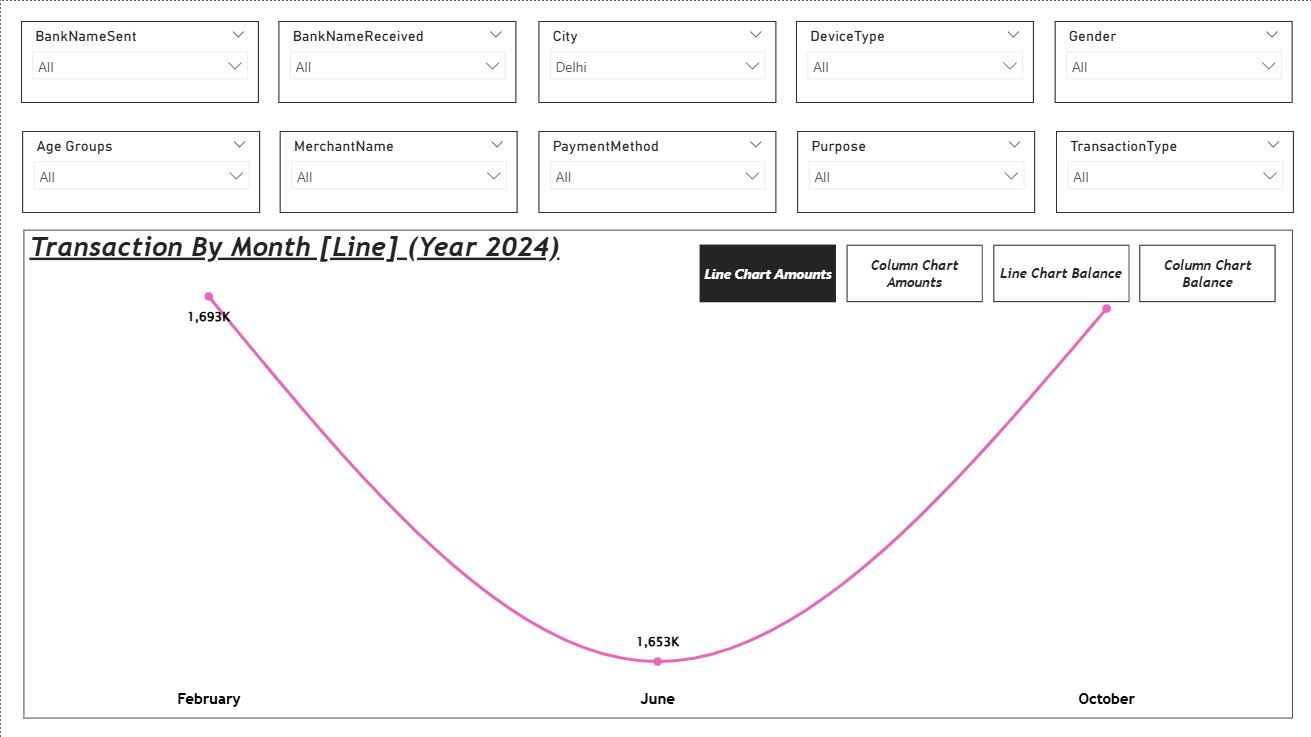

This screenshot's page, from the dashboard's own definition file:
{"tool":"powerbi","page":{"name":"Page 1","canvas":[1280,720],"ordinal":0},"visuals":[{"type":"slicer","fields":{"Values":["UPI Transaction.BankNameSent"]},"box":[20,20,232,80],"z":0},{"type":"slicer","fields":{"Values":["UPI Transaction.BankNameReceived"]},"box":[271,20,232,80],"z":1000},{"type":"slicer","fields":{"Values":["UPI Transaction.City"]},"box":[524,20,232,80],"z":2000},{"type":"slicer","fields":{"Values":["UPI Transaction.DeviceType"]},"box":[776,20,232,80],"z":3000},{"type":"slicer","fields":{"Values":["UPI Transaction.Gender"]},"box":[1028,20,232,80],"z":4000},{"type":"slicer","fields":{"Values":["UPI Transaction.Age Groups"]},"box":[20.9,127.1,232,80],"z":5000},{"type":"slicer","fields":{"Values":["UPI Transaction.MerchantName"]},"box":[271.9,127.1,232,80],"z":6000},{"type":"slicer","fields":{"Values":["UPI Transaction.PaymentMethod"]},"box":[524.9,127.1,232,80],"z":7000},{"type":"slicer","fields":{"Values":["UPI Transaction.Purpose"]},"box":[776.9,127.1,232,80],"z":8000},{"type":"slicer","fields":{"Values":["UPI Transaction.TransactionType"]},"box":[1028.9,127.1,232,80],"z":9000},{"type":"lineChart","title":"  Transaction By Month [Line] (Year 2024)","fields":{"Y":["Sum(UPI Transaction.Amount)"],"Category":["UPI Transaction.TransactionDate.Variation.Date Hierarchy.Month"]},"box":[21.7,223.3,1238.3,476.7],"z":10000},{"type":"bookmarkNavigator","box":[682,238,564,56],"z":14500}]}

Visuals, with their boxes in screenshot pixels (x1, y1, x2, y2), scaled from the page's 1280x720 canvas onto the 1311x737 screenshot:
slicer - UPI Transaction.BankNameSent: 20/20/258/102
slicer - UPI Transaction.BankNameReceived: 278/20/515/102
slicer - UPI Transaction.City: 537/20/774/102
slicer - UPI Transaction.DeviceType: 795/20/1032/102
slicer - UPI Transaction.Gender: 1053/20/1291/102
slicer - UPI Transaction.Age Groups: 21/130/259/212
slicer - UPI Transaction.MerchantName: 278/130/516/212
slicer - UPI Transaction.PaymentMethod: 538/130/775/212
slicer - UPI Transaction.Purpose: 796/130/1033/212
slicer - UPI Transaction.TransactionType: 1054/130/1291/212
"  Transaction By Month [Line] (Year 2024)" lineChart: 22/229/1291/717
bookmarkNavigator: 699/244/1276/301
